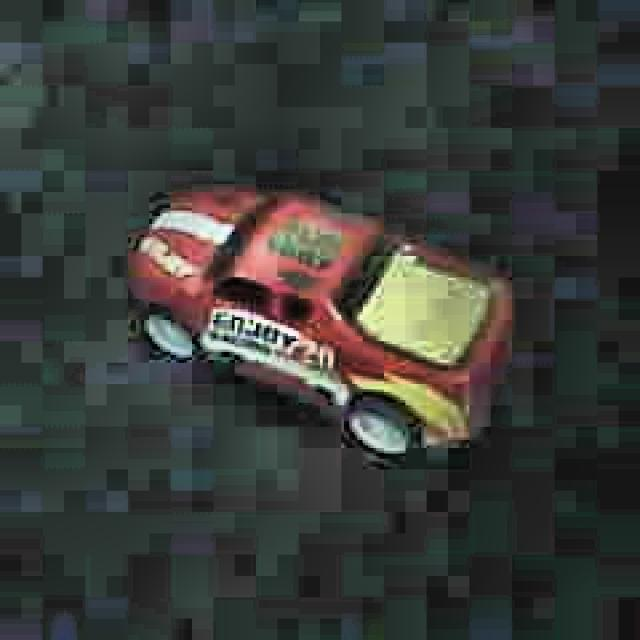car: (123, 176, 522, 472)
